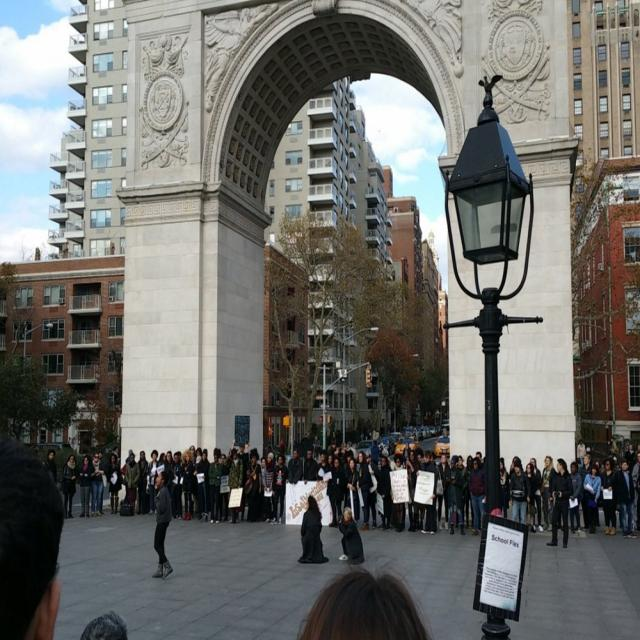body: (0, 437, 64, 640), (296, 566, 430, 640), (545, 457, 575, 549), (150, 468, 174, 580), (296, 493, 330, 564), (612, 458, 638, 540), (414, 448, 438, 536), (336, 505, 366, 566), (388, 450, 410, 533), (222, 446, 244, 524), (354, 449, 374, 531), (468, 455, 488, 537), (508, 457, 531, 527), (598, 456, 618, 536), (78, 608, 128, 640), (57, 452, 80, 520), (242, 446, 262, 523), (447, 454, 465, 536), (270, 453, 290, 525), (582, 462, 602, 534), (540, 455, 558, 532), (194, 447, 212, 523), (321, 452, 339, 528), (207, 446, 224, 525), (88, 450, 108, 517), (375, 455, 392, 532), (405, 448, 420, 534), (436, 452, 452, 531), (578, 453, 594, 531), (261, 450, 278, 523), (454, 454, 470, 530), (342, 457, 360, 523), (331, 456, 347, 530), (123, 451, 141, 516), (302, 431, 355, 453), (529, 456, 544, 533), (179, 446, 194, 522), (106, 452, 124, 515), (569, 460, 584, 534), (523, 461, 538, 534), (366, 452, 380, 529), (77, 453, 93, 518), (145, 448, 160, 516), (191, 446, 205, 518), (236, 440, 248, 522), (135, 450, 149, 516), (172, 451, 185, 522), (464, 454, 476, 530), (217, 453, 230, 522), (498, 456, 511, 520), (631, 452, 640, 528), (287, 447, 304, 485), (163, 450, 176, 498), (342, 453, 352, 513), (302, 448, 318, 485), (98, 449, 106, 515), (606, 434, 626, 459), (316, 452, 332, 481), (46, 448, 58, 482), (509, 456, 523, 484), (402, 441, 412, 477), (576, 438, 587, 468), (369, 439, 380, 468), (624, 441, 636, 466), (555, 509, 566, 535), (410, 439, 425, 458), (259, 456, 267, 488), (634, 443, 640, 485), (157, 452, 166, 467), (188, 445, 197, 458), (111, 445, 119, 458), (416, 453, 423, 467), (475, 451, 482, 462), (195, 455, 203, 464), (126, 447, 133, 456), (176, 449, 182, 459), (372, 427, 377, 439), (563, 460, 568, 470)
